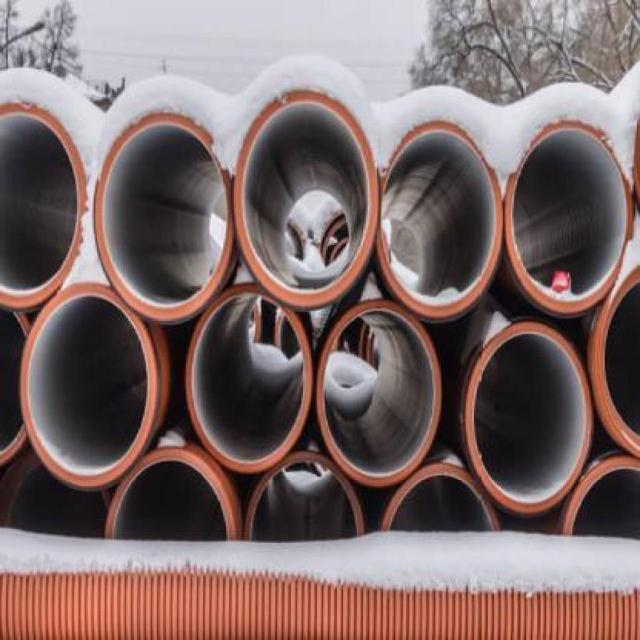pipe: (235, 90, 380, 307), (93, 112, 233, 321), (20, 281, 159, 488), (375, 122, 503, 319), (465, 323, 592, 514), (506, 120, 631, 313), (186, 285, 311, 473), (316, 301, 441, 486), (0, 102, 86, 307), (105, 448, 236, 541), (243, 453, 363, 541)
